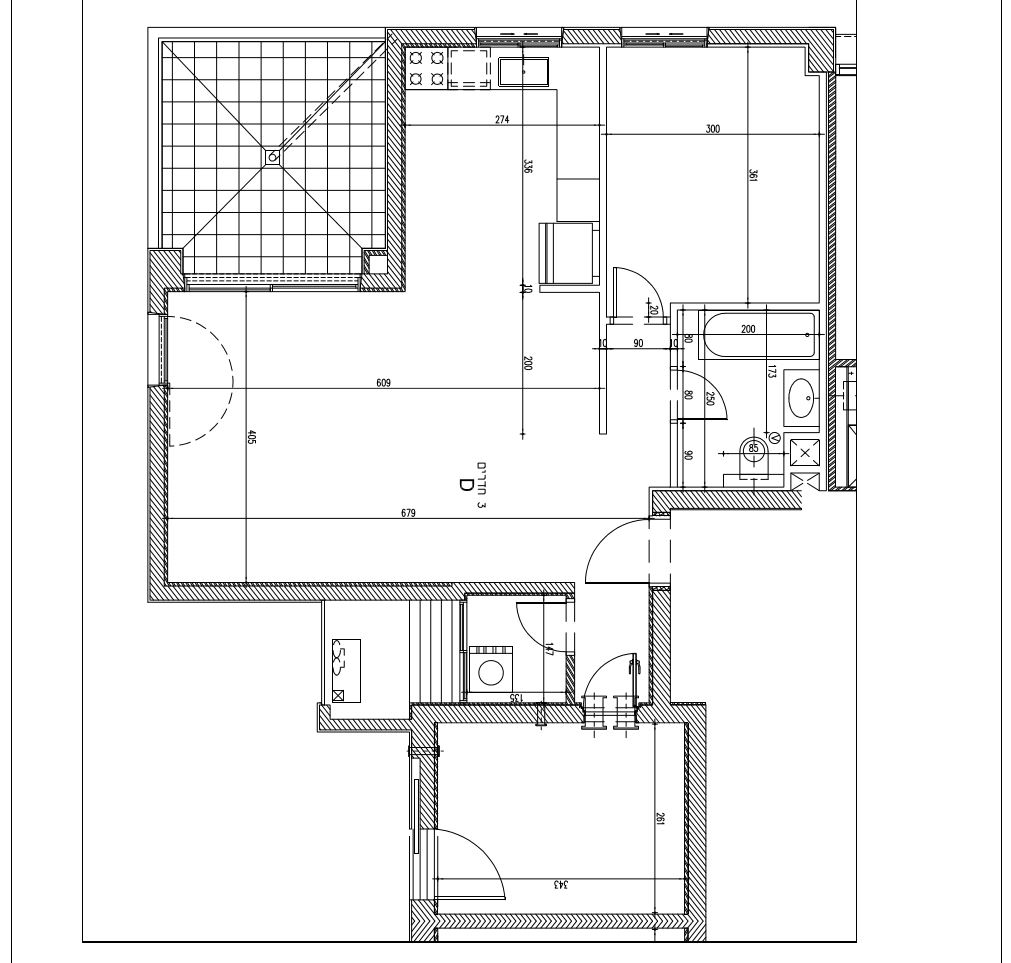door: (442, 821, 514, 906), (580, 509, 646, 590), (681, 363, 739, 428), (607, 264, 667, 325), (579, 645, 643, 701), (513, 599, 567, 656)
wall: (147, 582, 464, 600), (386, 29, 406, 290), (685, 702, 706, 940), (147, 386, 166, 601), (411, 914, 705, 927), (828, 75, 835, 490), (649, 586, 670, 723), (652, 490, 801, 508), (707, 27, 835, 47), (412, 706, 537, 722)
window: (183, 273, 361, 291), (620, 27, 707, 48), (476, 28, 561, 47)
